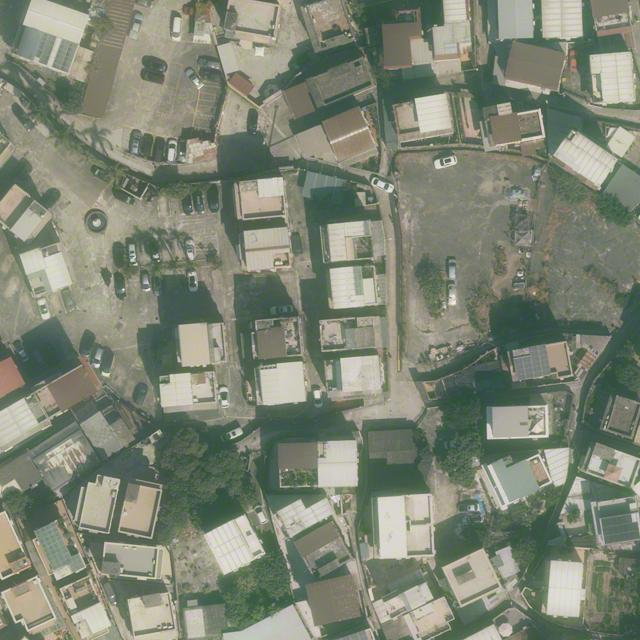panel: (52, 39, 78, 72), (602, 522, 639, 544), (529, 344, 552, 377), (39, 35, 56, 65), (514, 355, 534, 380), (600, 514, 632, 528), (34, 33, 48, 57)
